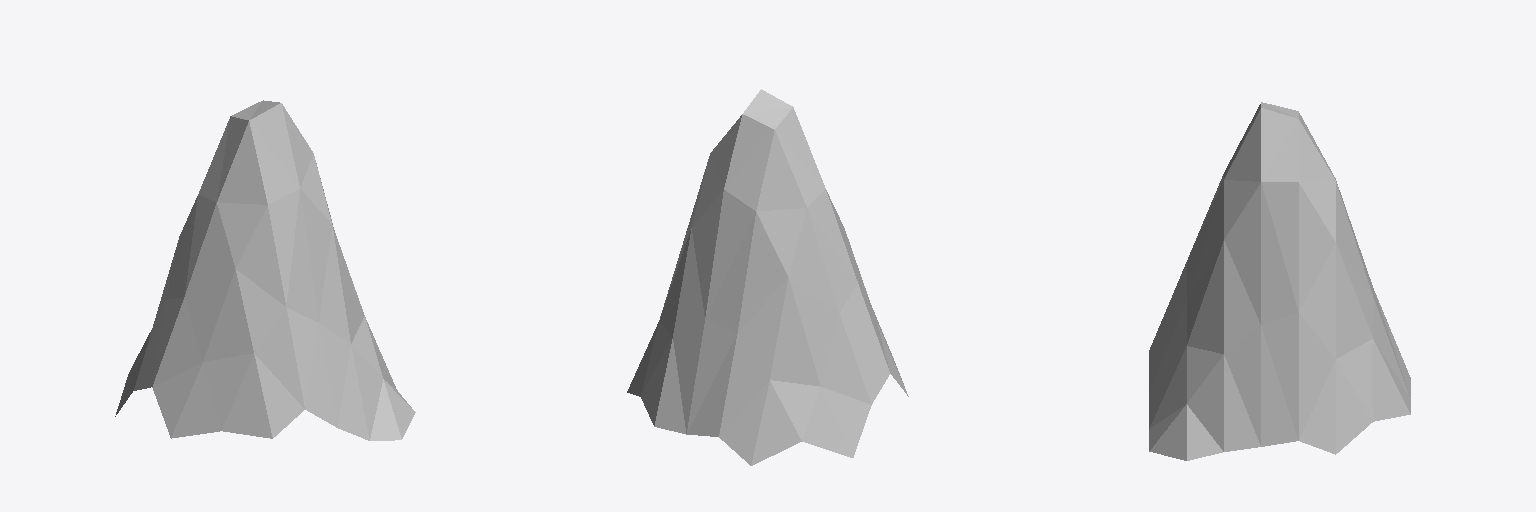
Rendered from tree_26.obj.
3 renders of one model, left to right at view 1: azimuth 30°, elevation 25°; view 2: azimuth 150°, elevation 25°; view 3: azimuth 270°, elevation 25°, orthographic.
Visible parts, largest first — view 1: tree_26; view 2: tree_26; view 3: tree_26.
Part boxes in pixels (x1,y1,x2,y2): tree_26: (115,100,415,440); tree_26: (627,89,908,465); tree_26: (1149,102,1410,460).
Bounding box in the file's own units: 7 × 9.24 × 7.